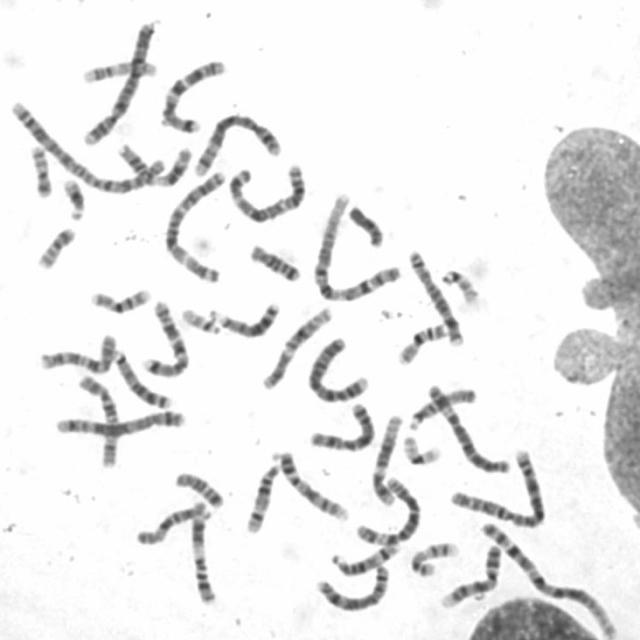A1: (478, 517, 622, 639), (309, 190, 402, 304)
A2: (6, 96, 169, 196), (447, 447, 547, 529)
A3: (161, 166, 227, 286), (224, 158, 307, 226)
B4: (78, 15, 158, 149), (305, 334, 371, 404)
B5: (190, 109, 284, 179), (52, 406, 186, 438)
C10: (75, 372, 122, 468), (36, 331, 118, 374)
C11: (114, 140, 192, 190), (187, 502, 216, 606)
C12: (257, 303, 334, 392), (367, 411, 404, 508)
C6: (425, 380, 511, 476), (352, 472, 422, 548)
C7: (157, 56, 228, 134), (139, 297, 191, 379)
C8: (406, 245, 464, 348), (311, 562, 391, 614)
C9: (270, 446, 351, 524), (437, 539, 502, 609)
D13: (110, 346, 172, 409), (211, 298, 279, 338)
D14: (241, 460, 281, 534), (327, 539, 400, 577)
D15: (132, 498, 212, 548), (405, 384, 477, 431)
E16: (394, 319, 450, 366), (86, 284, 152, 316)
E17: (80, 56, 158, 84), (407, 538, 460, 578)
E18: (246, 241, 302, 283), (171, 468, 225, 508)
F19: (401, 432, 444, 468)
F20: (34, 224, 77, 270), (27, 141, 54, 199)
G21: (61, 175, 88, 222)
G22: (439, 266, 481, 306), (179, 304, 221, 336)
X: (306, 400, 377, 454)
Y: (346, 203, 385, 249)
